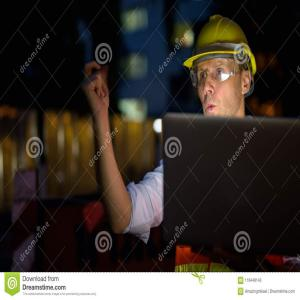yellow: (195, 13, 256, 120)
